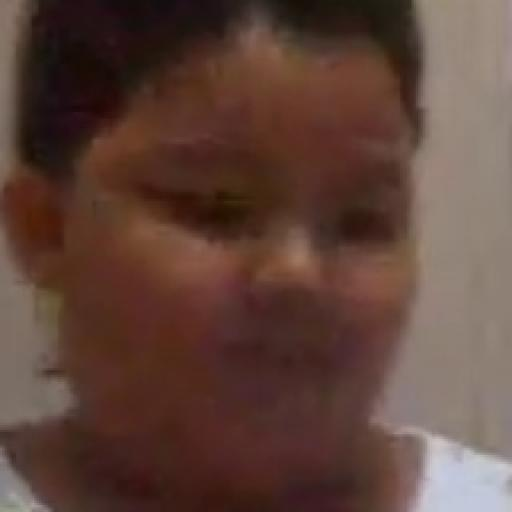Autism: (29, 0, 470, 498)
